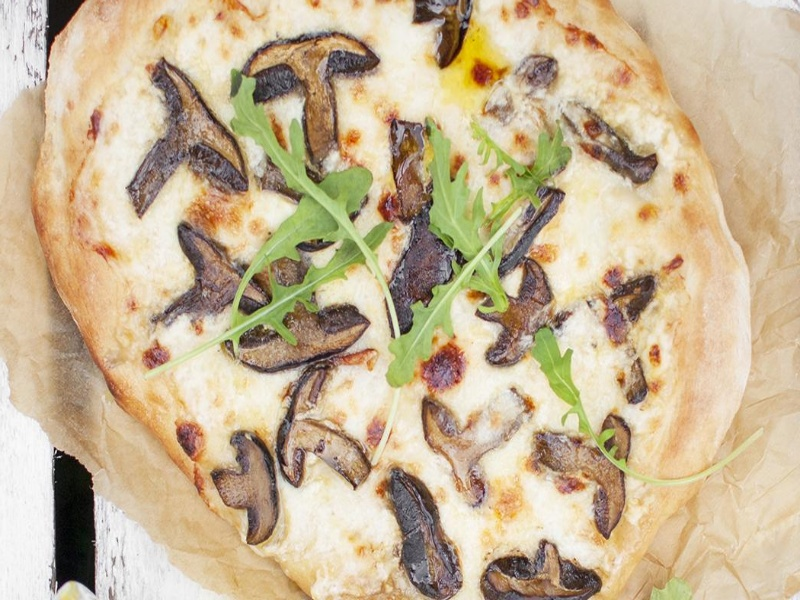champignon: (234, 28, 388, 184), (126, 56, 252, 227), (523, 396, 638, 548), (416, 378, 535, 516), (275, 363, 377, 494), (207, 425, 285, 548)
